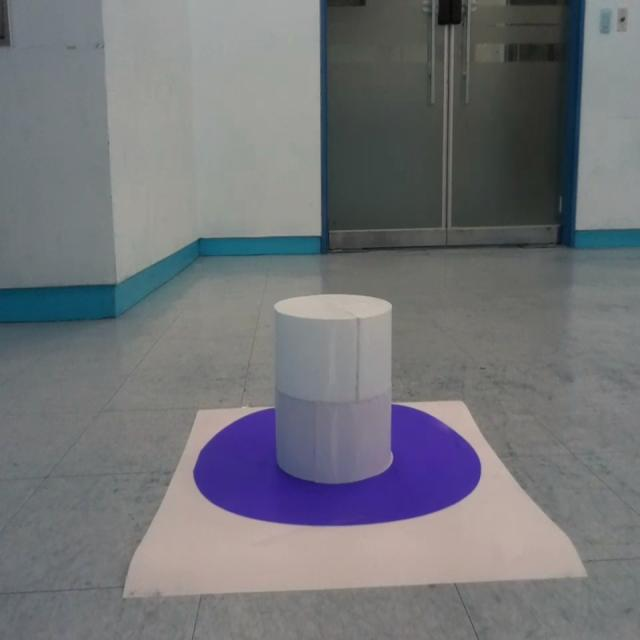cylinder: (273, 294, 394, 484)
